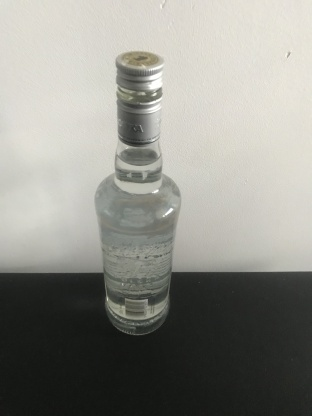nakretka: (114, 49, 164, 147)
